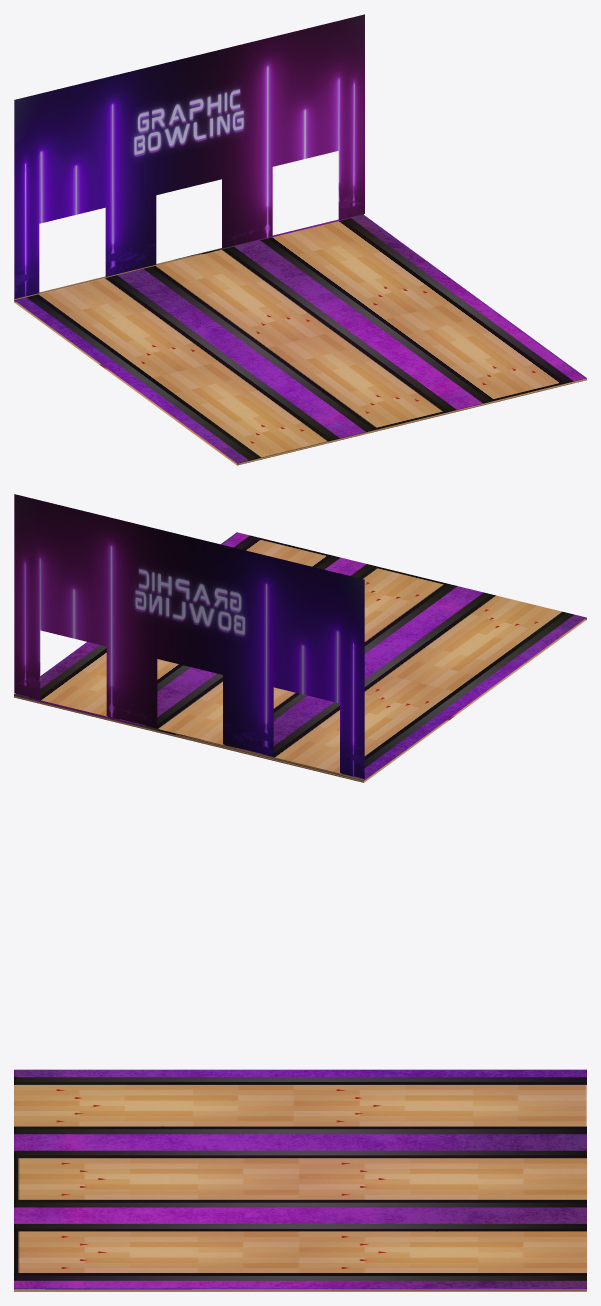
File: platform.obj
3 views of the same model, one above another, from view 1: azimuth 30°, elevation 25°; view 2: azimuth 150°, elevation 25°; view 3: azimuth 270°, elevation 25° (orthographic). The views are drawn at different scales.
Parts seen in each view (by area): view 1: floor, Plane; view 2: Plane, floor; view 3: floor.
Part boxes in pixels (bbox=[...]): floor: bbox=[14, 214, 586, 465]; Plane: bbox=[14, 14, 364, 299]; Plane: bbox=[14, 494, 364, 778]; floor: bbox=[14, 532, 586, 782]; floor: bbox=[14, 1069, 586, 1291].
Size of the model in its own units: 24.55 by 13.58 by 27.06.
Materials: 2 (2 with a texture image).
